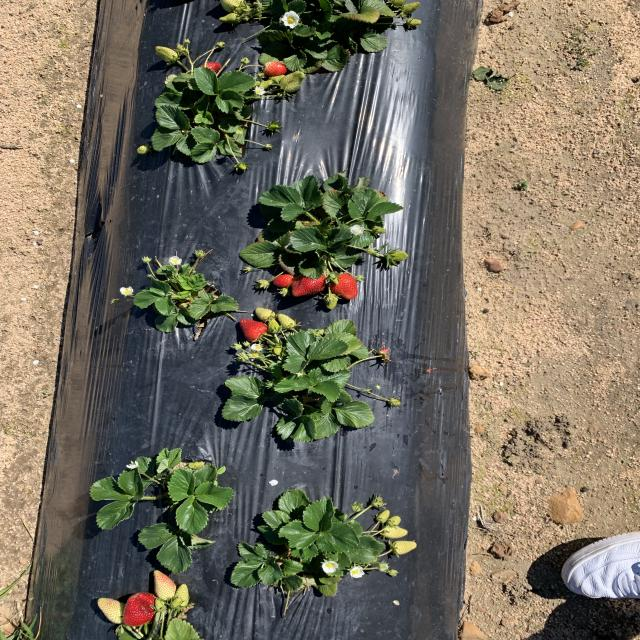unripe: (119, 592, 166, 626), (291, 272, 328, 296), (328, 272, 360, 299), (238, 317, 271, 341), (195, 60, 225, 79), (272, 273, 295, 288), (265, 62, 288, 76)
